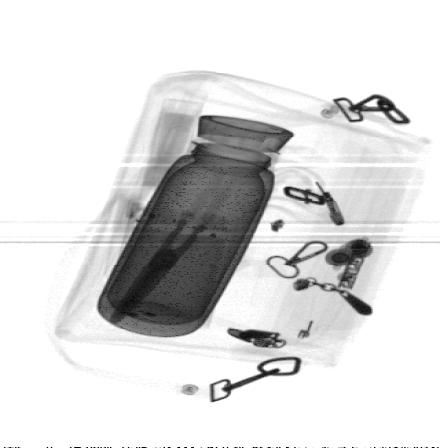Powerbank: (122, 98, 209, 217)
Scissors: (108, 158, 285, 328)
